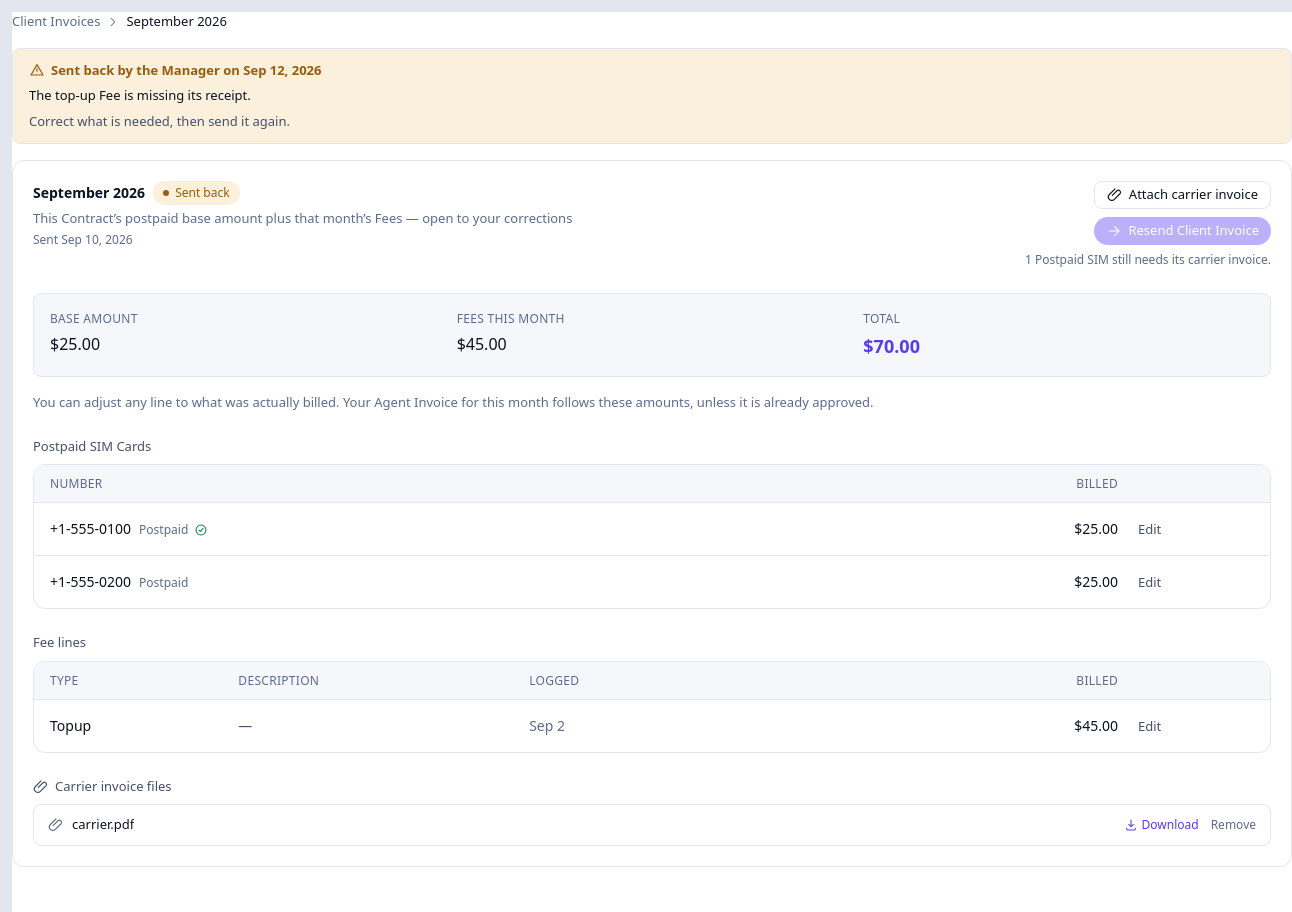
Scenario: AgentClientInvoicesView › the by-id page (send-a-client-invoice-back) › Remove (remove-carrier-invoice-file) › shows a failure and keeps the file listed
Click the button with aria-label "Remove carrier.pdf". click: (1233, 825)
box: left=1211, top=816, right=1256, bottom=834
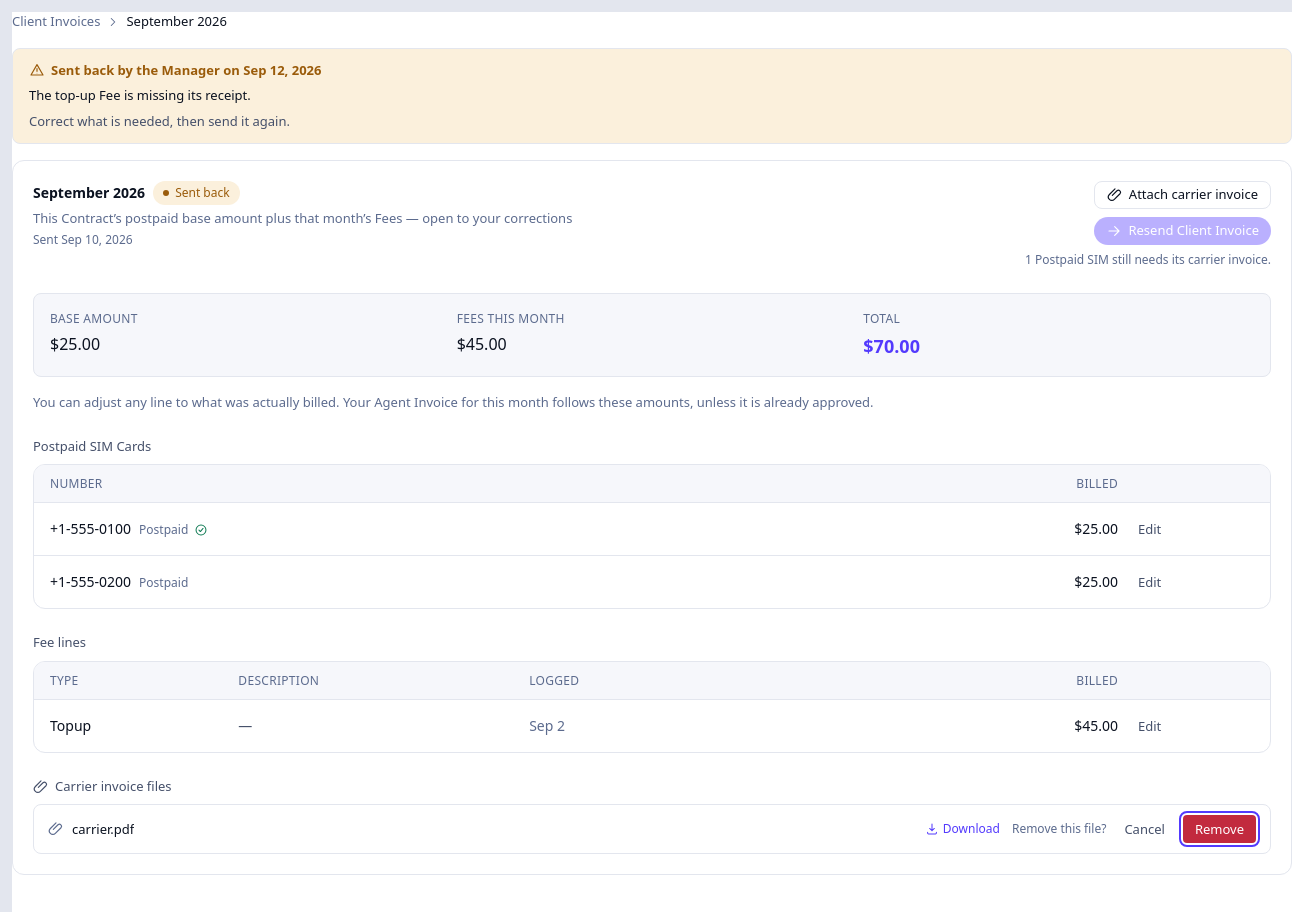
Click the button "Remove". click: (1219, 829)
box: left=1183, top=815, right=1256, bottom=843
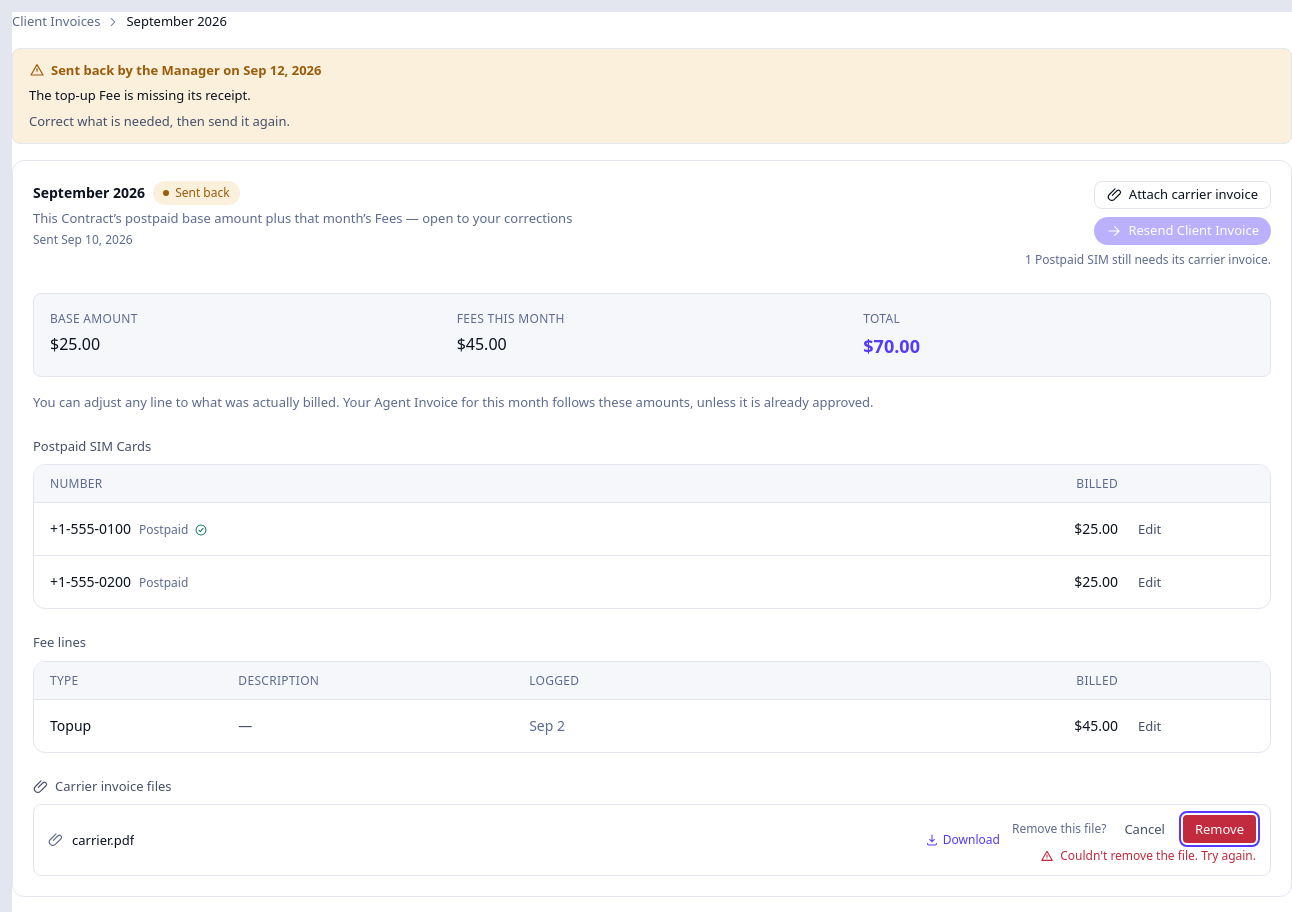
Expected: the text "carrier.pdf" is shown, left=72, top=830, right=134, bottom=850
Expected: the text "Couldn't remove the file. Try again." is shown, left=1040, top=847, right=1256, bottom=865
